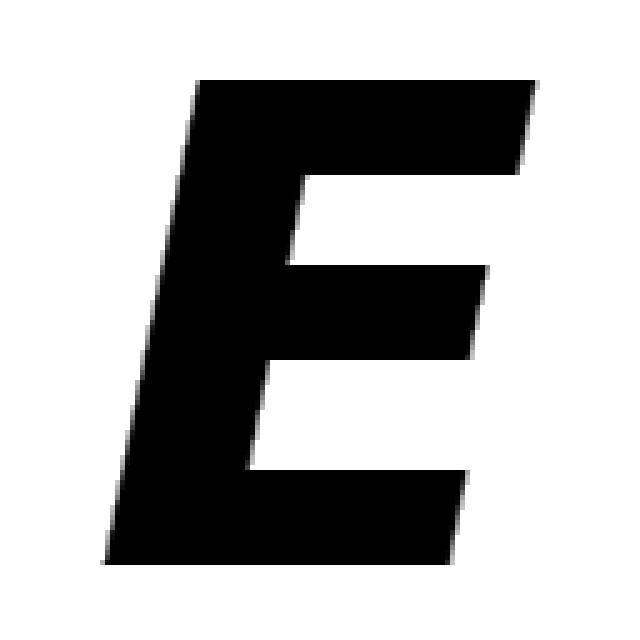E: (105, 80, 535, 565)
